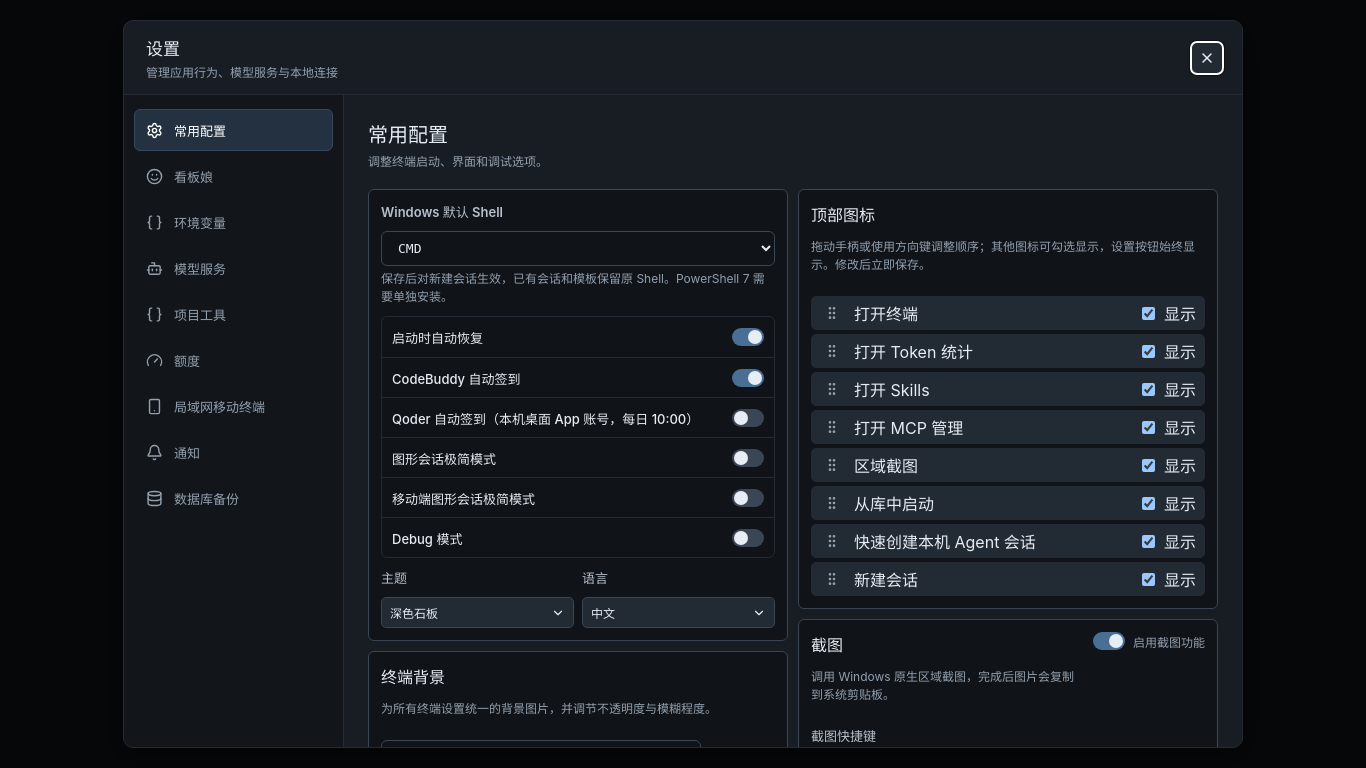
Test: SettingsModal navigation › saves the graphical minimal mode toggle and shows save failures
Click the checkbox labelled "图形会话极简模式" at (444, 458), box [382,437,774,477]
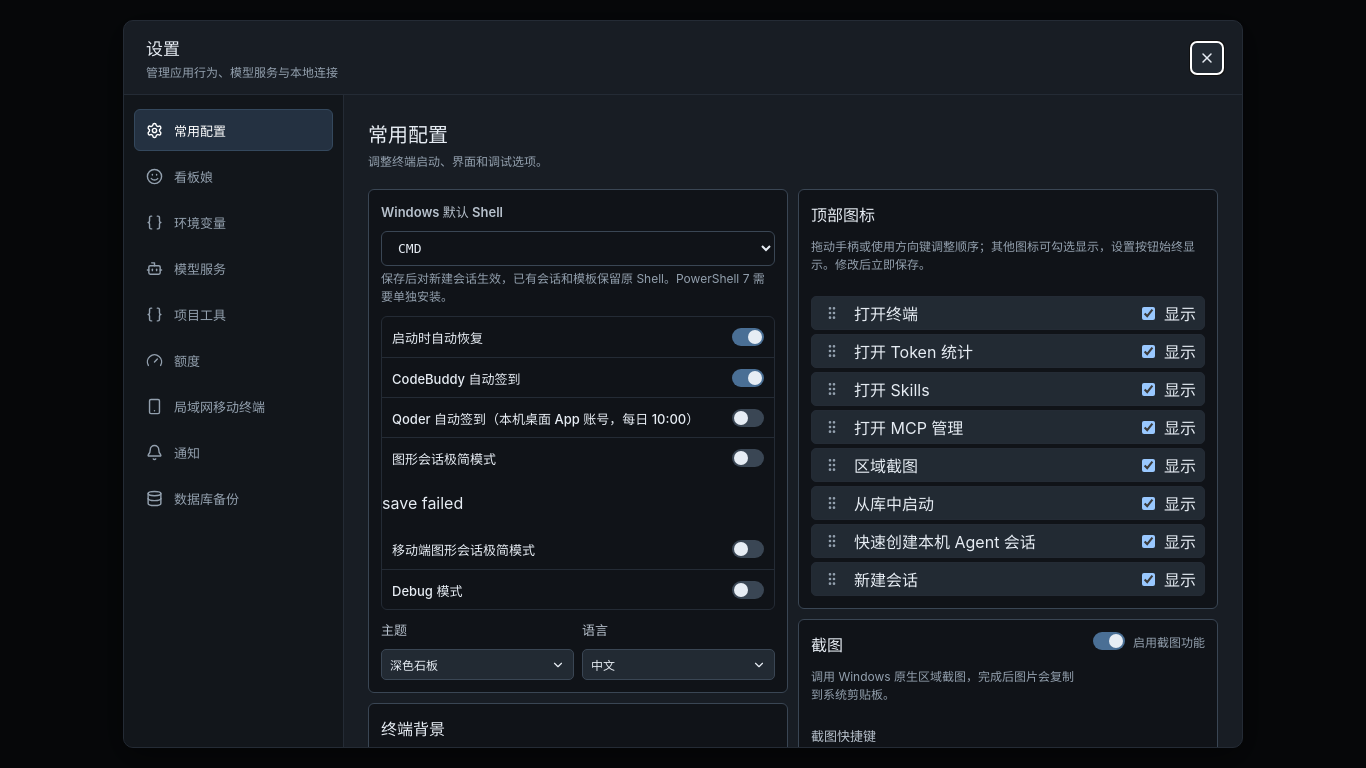
Check: the message reads "save failed", box [382,493,463,513]
